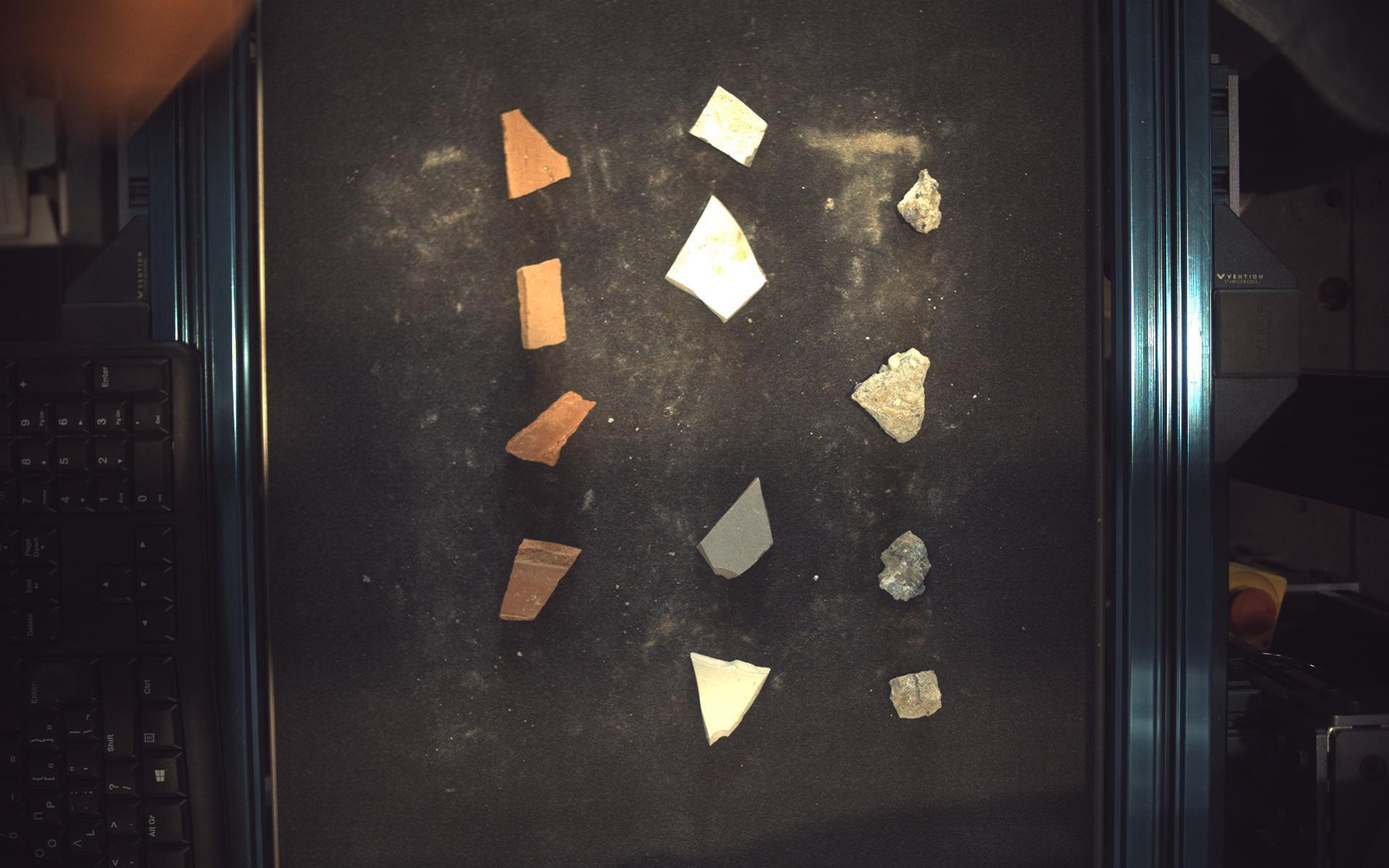brick: (506, 391, 596, 467), (500, 540, 582, 621), (501, 108, 571, 197), (517, 258, 566, 349)
concrete: (854, 349, 932, 443), (880, 531, 933, 602), (899, 169, 943, 233), (891, 671, 943, 720)
tile: (666, 195, 768, 322), (699, 477, 774, 579), (692, 653, 772, 746), (691, 85, 768, 166)
